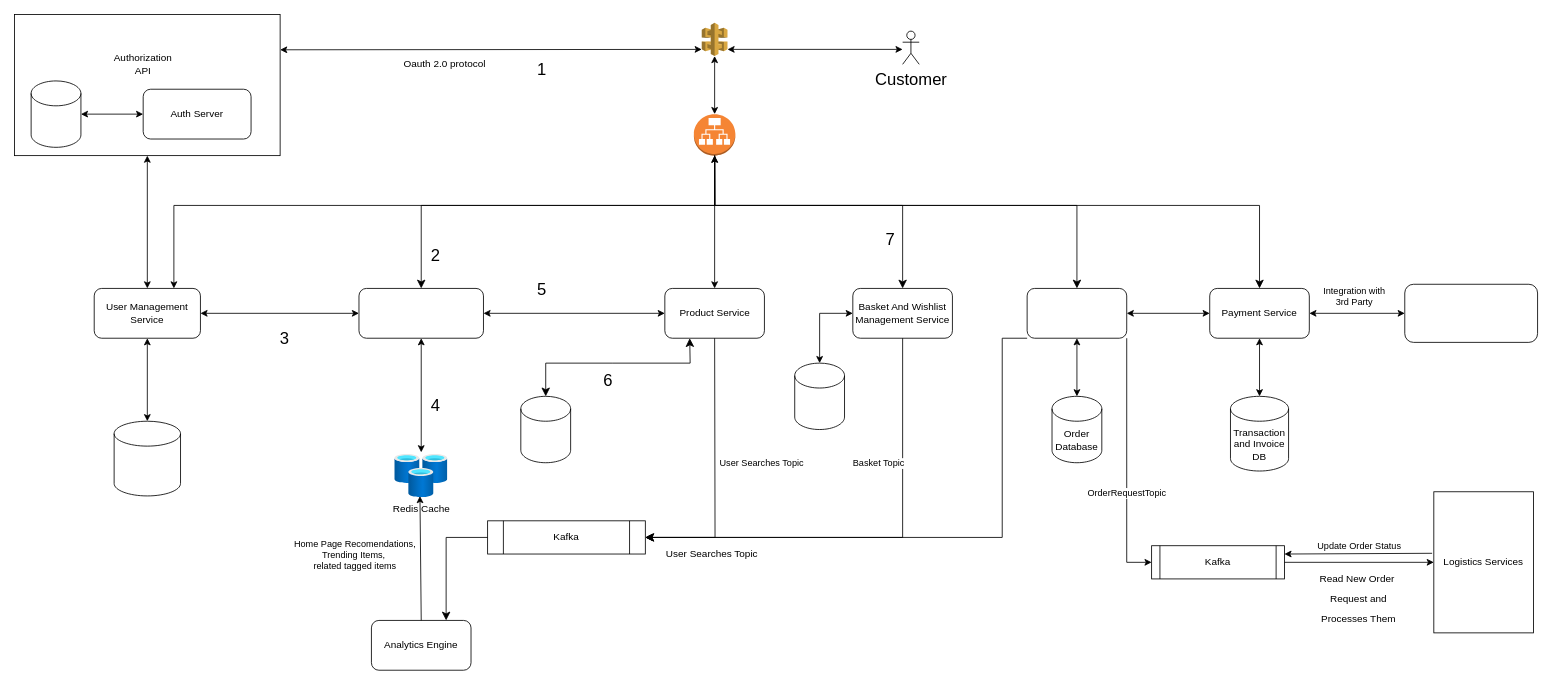
This 1552x685 diagram has some shape labels left out. Here are the shapes that lost their labels. From the top down, the centre of each, then its label:
the point at 55,113: Auth Database
the point at 420,313: Home Service
the point at 1076,313: Order Management Service
the point at 1471,312: RazorPay / PayU
the point at 819,396: Wishlist Database
the point at 545,429: Product DB
the point at 147,458: User Management DB
